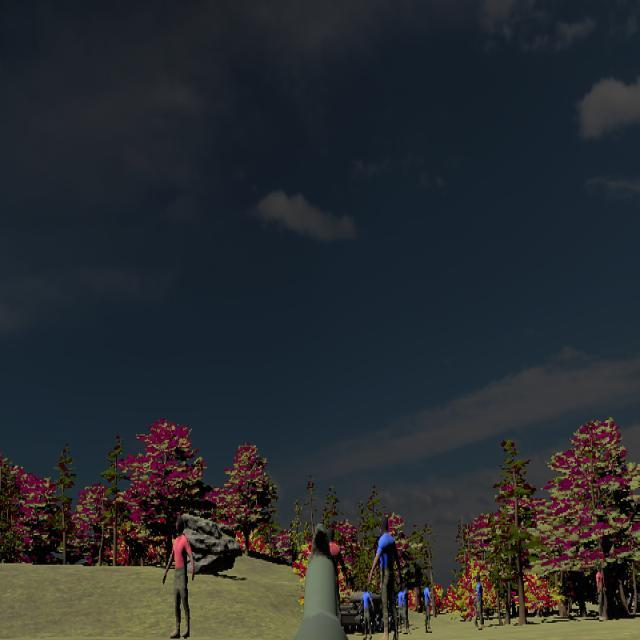Human: (162, 516, 195, 639), (369, 515, 402, 638), (359, 583, 375, 639)
